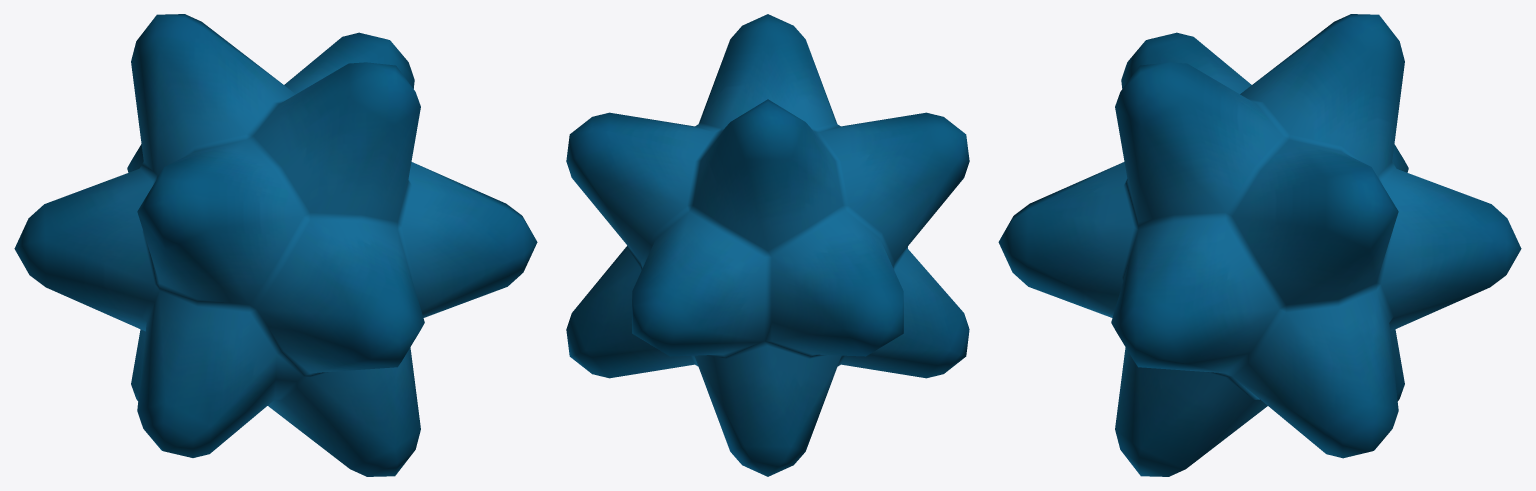
File: sagittarius-fragment.glb
3 views of the same model, side by side, from view 1: azimuth 30°, elevation 25°; view 2: azimuth 150°, elevation 25°; view 3: azimuth 270°, elevation 25° (orthographic). The views are drawn at different scales.
Size of the model in its own units: 3.1 by 3.05 by 3.52.
1 material, 1 textured.
